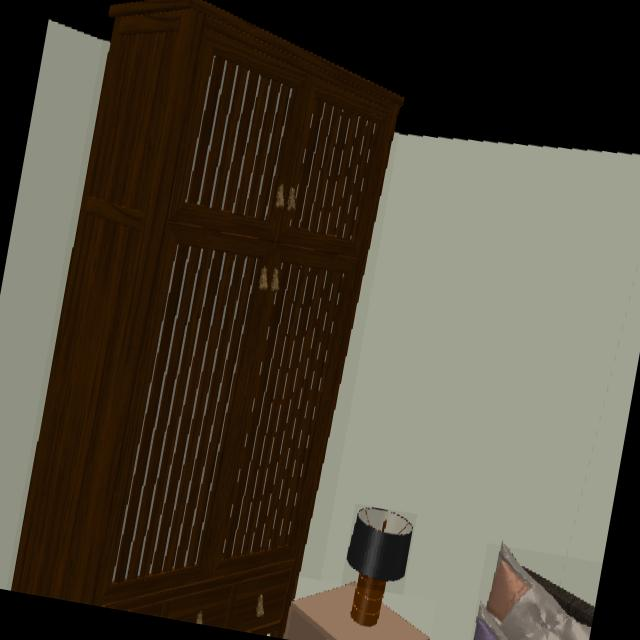lamp: (344, 507, 414, 628)
nighttable: (284, 585, 429, 640)
pillow: (472, 546, 594, 640)
wardrobe: (12, 0, 404, 637)
